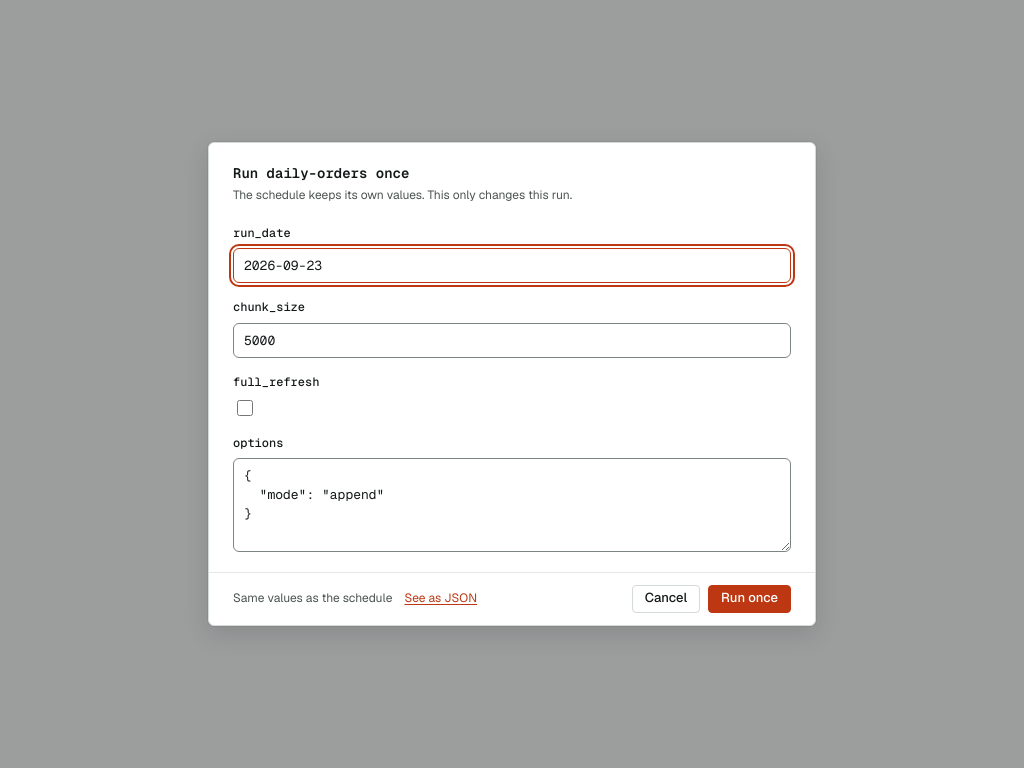
Scenario: RunDialog › shows the values as JSON on demand
This screenshot has width=1024, height=768.
Replace the text in the field labelled "chunk_size" with "7" at (512, 340), box [233,323,791,358]
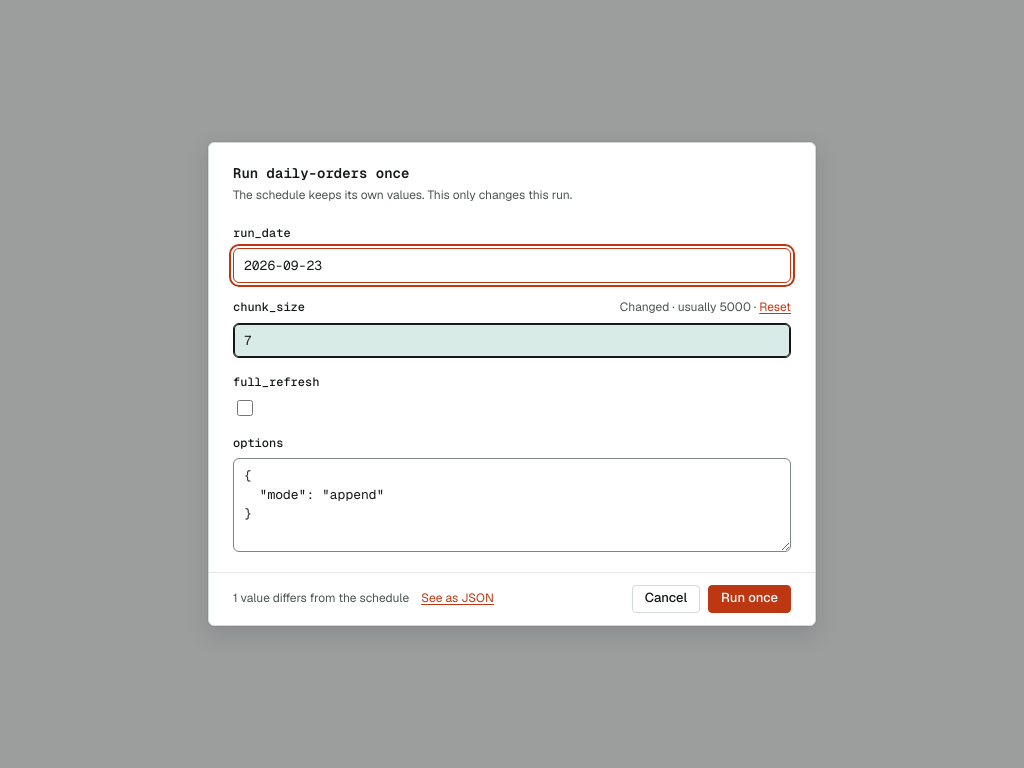
Click the button "See as JSON" at (458, 599), box [421,590,494,608]
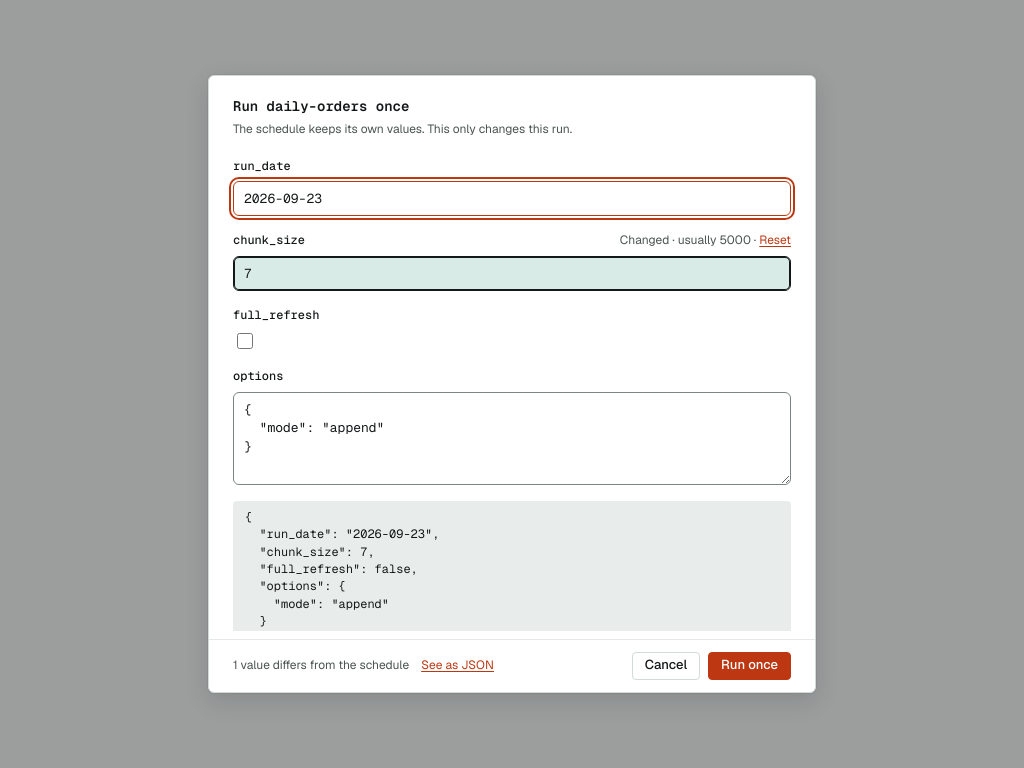
Expected: the button "See as JSON" is expanded, [421,657,494,674]
Expected: the element named "The run's parameters as JSON" shows "\"chunk_size\": 7", [245,509,439,631]
